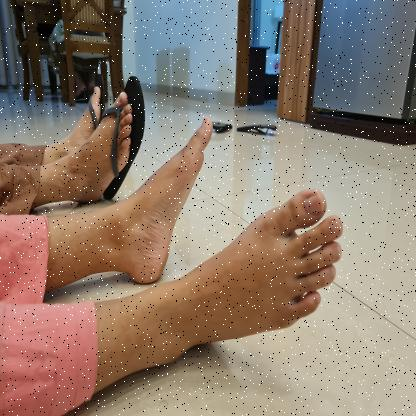leg: (100, 181, 347, 391), (50, 112, 216, 288), (41, 71, 147, 209), (44, 70, 108, 160)
